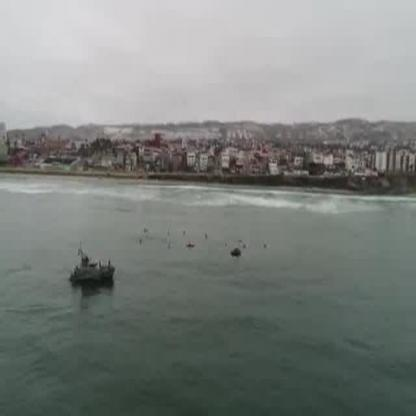Boat: (68, 245, 116, 292)
